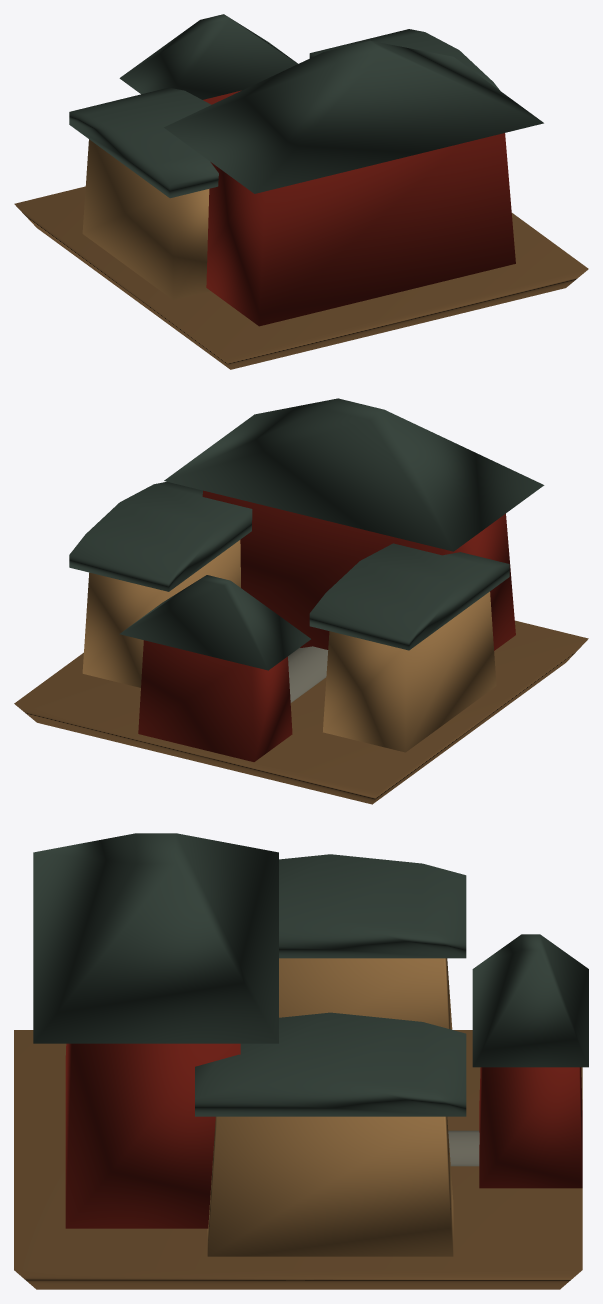
The model's file is R47_HAN_LUOYANG_CENTRAL_OFFICE_AXIAL_COURT_A.fbx.
The picture shows the model from 3 angles, top to bottom: view 1: azimuth 30°, elevation 25°; view 2: azimuth 150°, elevation 25°; view 3: azimuth 270°, elevation 25°; orthographic projection. The views are drawn at different scales.
Visible parts, largest first — view 1: main_hall, main_roof, yard, office_e, office_e_roof, gate_roof, office_w_roof; view 2: main_roof, yard, office_e, main_hall, gate, office_e_roof, office_w_roof, gate_roof, office_w, axis; view 3: main_roof, yard, office_w, main_hall, office_w_roof, office_e_roof, gate_roof, gate, office_e, axis.
Part boxes in pixels (left/top/right/bottom): main_hall: left=206, top=133, right=515, bottom=326; main_roof: left=164, top=40, right=543, bottom=193; yard: left=14, top=186, right=588, bottom=369; office_e: left=82, top=139, right=210, bottom=300; office_e_roof: left=69, top=87, right=218, bottom=198; gate_roof: left=119, top=14, right=297, bottom=99; office_w_roof: left=309, top=29, right=499, bottom=90; main_roof: left=164, top=398, right=544, bottom=551; yard: left=14, top=620, right=588, bottom=804; office_e: left=323, top=591, right=496, bottom=752; main_hall: left=202, top=490, right=515, bottom=650; gate: left=138, top=640, right=292, bottom=761; office_e_roof: left=309, top=543, right=509, bottom=650; office_w_roof: left=69, top=482, right=252, bottom=591; gate_roof: left=119, top=575, right=310, bottom=670; office_w: left=82, top=540, right=240, bottom=687; axis: left=288, top=646, right=328, bottom=702; main_roof: left=33, top=833, right=278, bottom=1043; yard: left=14, top=1030, right=582, bottom=1289; office_w: left=207, top=1116, right=453, bottom=1256; main_hall: left=65, top=1043, right=240, bottom=1228; office_w_roof: left=195, top=1012, right=466, bottom=1116; office_e_roof: left=279, top=854, right=466, bottom=958; gate_roof: left=472, top=934, right=588, bottom=1067; gate: left=479, top=1067, right=582, bottom=1188; office_e: left=279, top=958, right=452, bottom=1029; axis: left=448, top=1130, right=479, bottom=1166.
Size of the model in its own units: 88 by 56.5 by 89.
